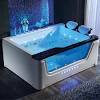bathub: (3, 23, 99, 92)
